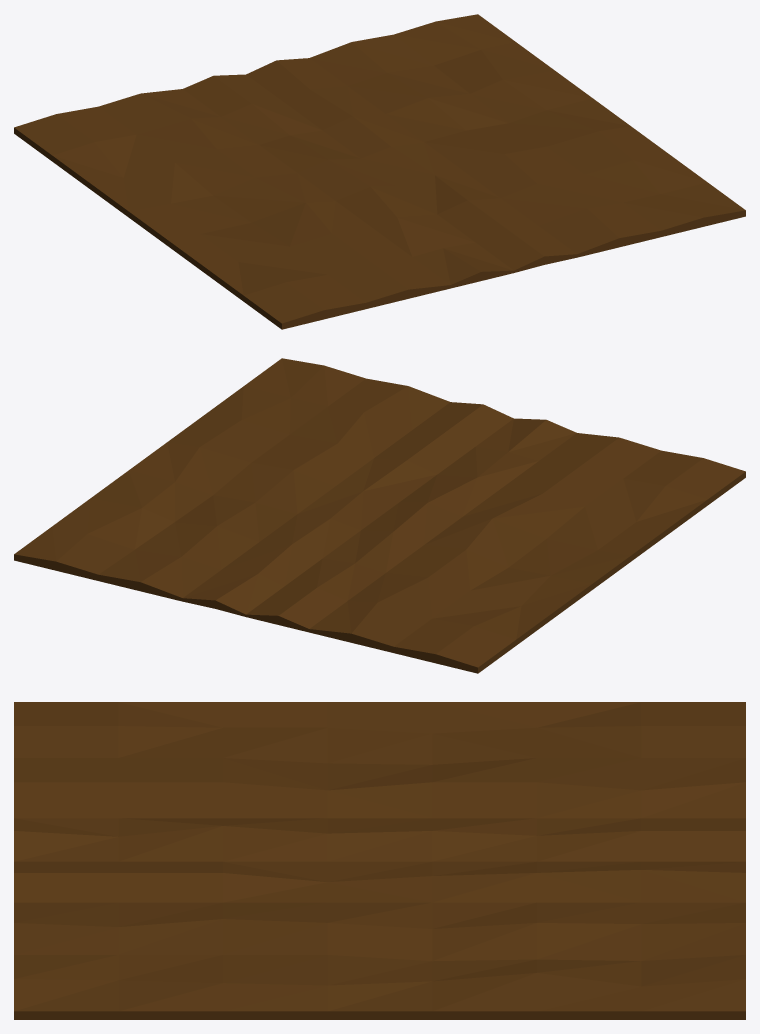
Rendered from farmland_lowpoly.fbx.
The picture shows the model from 3 angles, top to bottom: view 1: azimuth 30°, elevation 25°; view 2: azimuth 150°, elevation 25°; view 3: azimuth 270°, elevation 25°; orthographic projection. The views are drawn at different scales.
Parts seen in each view (by area): view 1: Soil; view 2: Soil; view 3: Soil.
Part boxes in pixels (box(x1,y1,x2,y2)): Soil: box(14, 14, 745, 329); Soil: box(14, 358, 745, 673); Soil: box(14, 702, 745, 1019).
Bounding box in the file's own units: 6.08 × 0.1154 × 6.08.
